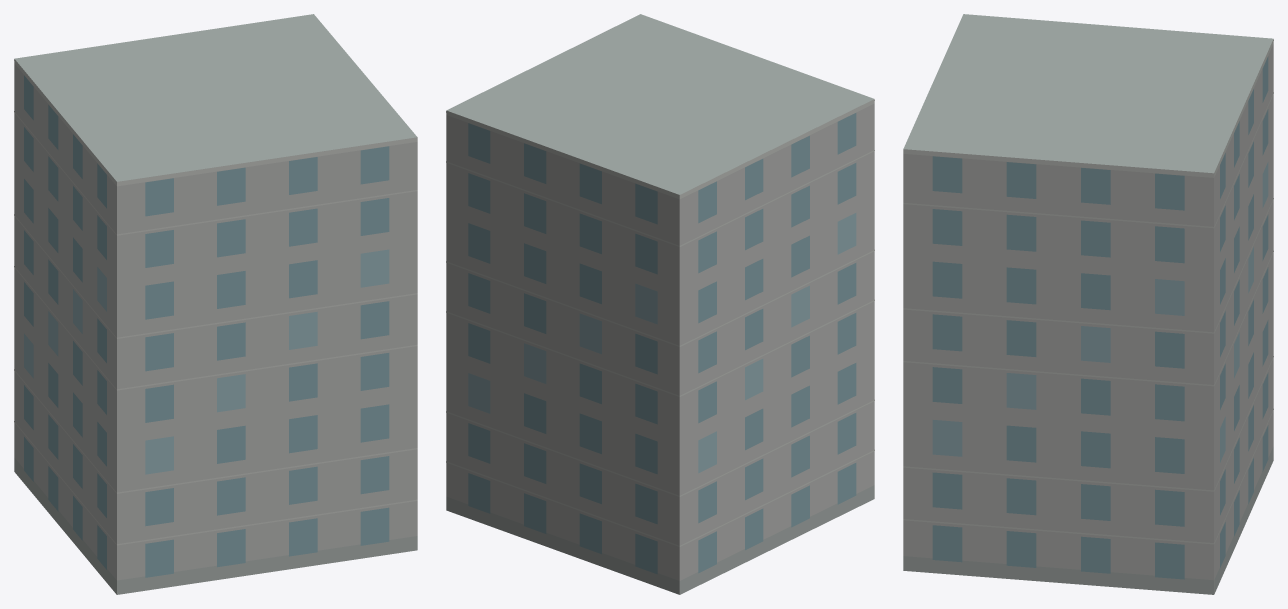
File: survey-upis-32788638.glb
3 renders of one model, left to right at view 1: azimuth 30°, elevation 25°; view 2: azimuth 150°, elevation 25°; view 3: azimuth 270°, elevation 25°, orthographic. The views are drawn at different scales.
Visible parts, largest first — view 1: survey-upis-32788638.tmp; view 2: survey-upis-32788638.tmp; view 3: survey-upis-32788638.tmp.
Boxes of the visible parts, x1,y1,x2,y2 form: survey-upis-32788638.tmp: (14, 14, 417, 594); survey-upis-32788638.tmp: (446, 14, 874, 594); survey-upis-32788638.tmp: (903, 14, 1273, 594).
Bounding box in the file's own units: 18.01 × 22.2 × 17.7.
